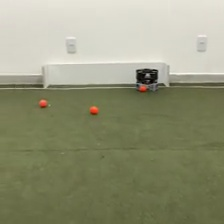ball: (88, 104, 99, 114), (38, 98, 48, 108), (138, 83, 147, 92)
goal: (40, 60, 172, 90)
robot: (134, 67, 160, 92)
